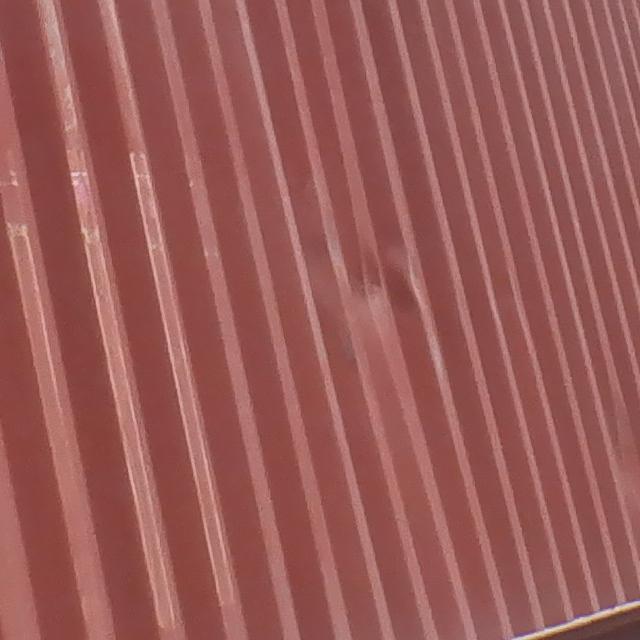dent: (329, 222, 438, 344)
